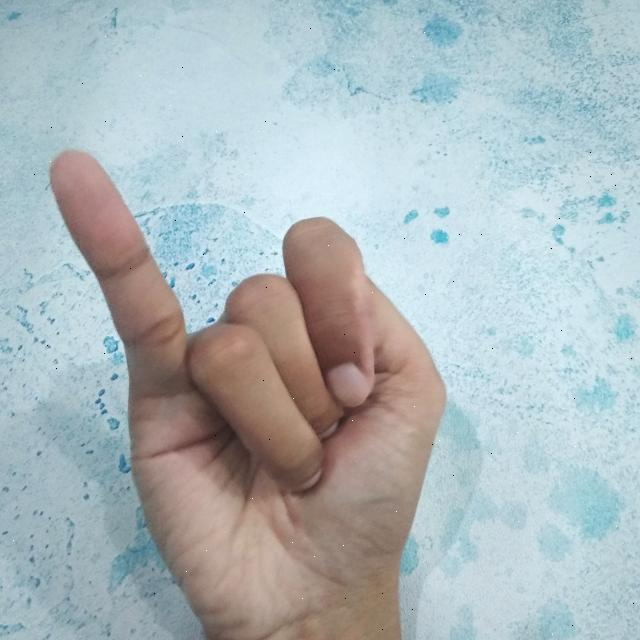I: (46, 144, 449, 640)
